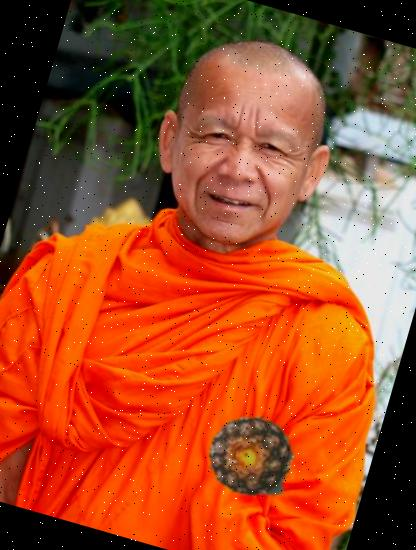Pineapple: (195, 401, 305, 511)
